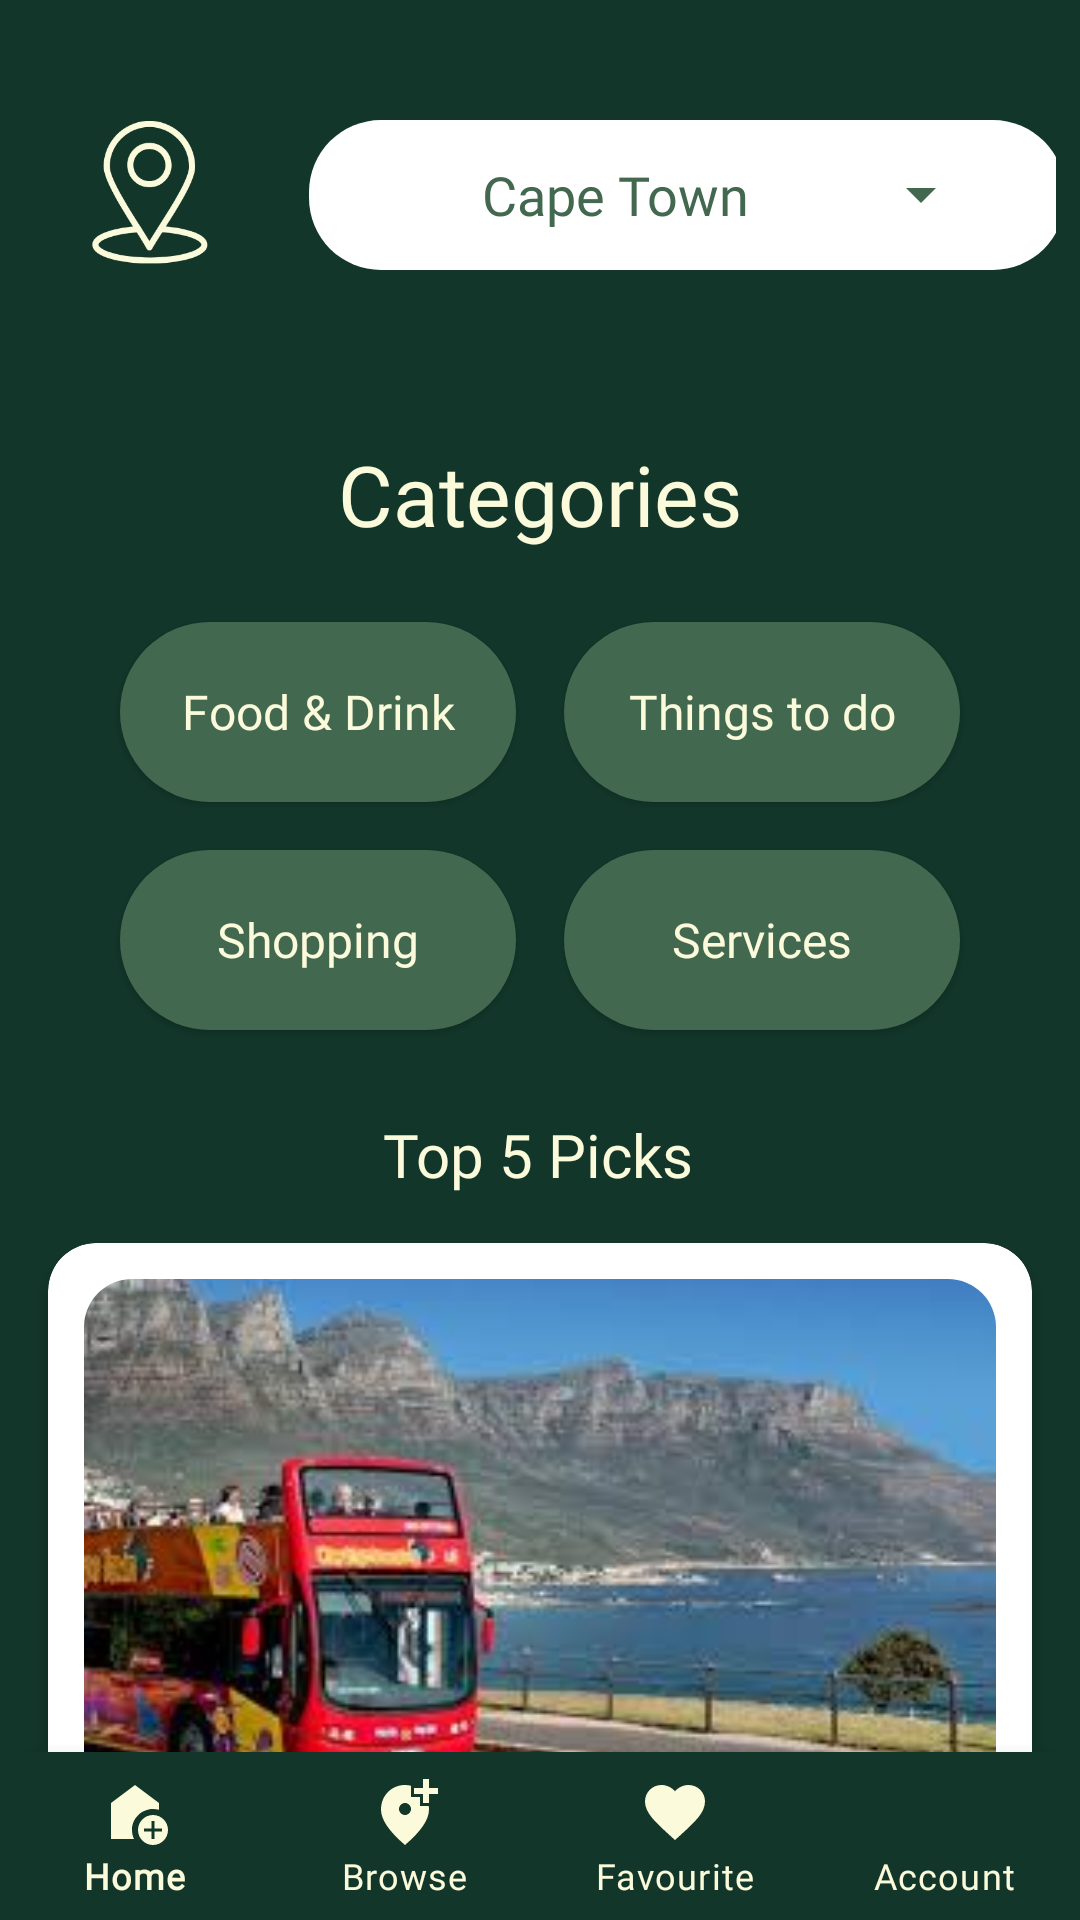

Named icons in this screenshot (1080w x 1920h) and their bounding boxes, box(x1, y1, x2, y2):
dropdown: box(906, 188, 936, 203)
